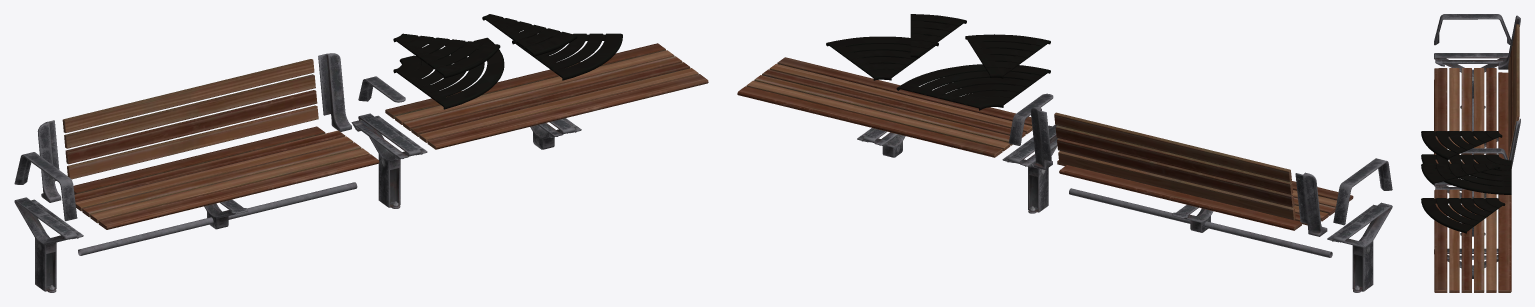
Rendered from modular_street_seating_512.glb.
The picture shows the model from 3 angles, left to right: view 1: azimuth 30°, elevation 25°; view 2: azimuth 150°, elevation 25°; view 3: azimuth 270°, elevation 25°; orthographic projection. The views are drawn at different scales.
Parts seen in each view (by area): view 1: seat_back, seat, seat_bench, connector_90, legs_double, connector_45, legs_single, connector_60, crossbar, connector_30, back_support_l, arm_rest_01 (+4 smaller); view 2: seat_bench, seat_back, connector_90, seat, connector_60, legs_single, connector_45, crossbar, legs_double, connector_30, arm_rest_01, back_support_r (+4 smaller); view 3: seat_bench, seat, connector_90, connector_60, connector_45, seat_back, connector_30, legs_single, arm_rest_01, arm_rest_02, back_support_r, legs_double (+3 smaller).
Part boxes in pixels (<box>): seat_back: <box>62,59,318,179</box>; seat: <box>73,126,379,229</box>; seat_bench: <box>385,43,708,149</box>; connector_90: <box>393,37,504,109</box>; legs_double: <box>351,113,427,208</box>; connector_45: <box>393,33,500,78</box>; legs_single: <box>14,197,83,292</box>; connector_60: <box>512,33,622,80</box>; crossbar: <box>78,182,357,255</box>; connector_30: <box>482,14,577,56</box>; back_support_l: <box>318,53,351,131</box>; arm_rest_01: <box>14,152,77,221</box>; seat_bench: <box>737,57,1032,157</box>; seat_back: <box>1054,112,1295,220</box>; connector_90: <box>896,64,1050,110</box>; seat: <box>1057,160,1353,230</box>; connector_60: <box>826,36,938,80</box>; legs_single: <box>1327,202,1392,292</box>; connector_45: <box>965,34,1050,78</box>; crossbar: <box>1069,188,1332,257</box>; legs_double: <box>1002,125,1058,213</box>; connector_30: <box>910,14,966,57</box>; arm_rest_01: <box>1333,158,1392,225</box>; back_support_r: <box>1295,172,1327,236</box>; seat_bench: <box>1434,189,1511,292</box>; seat: <box>1434,68,1508,163</box>; connector_90: <box>1421,154,1511,194</box>; connector_60: <box>1421,198,1505,233</box>; connector_45: <box>1421,131,1502,160</box>; seat_back: <box>1508,24,1519,157</box>; connector_30: <box>1421,163,1500,185</box>; legs_single: <box>1434,53,1508,108</box>; arm_rest_01: <box>1434,14,1511,45</box>; arm_rest_02: <box>1461,148,1508,159</box>; back_support_r: <box>1498,15,1520,69</box>; legs_double: <box>1434,181,1486,236</box>.
Size of the model in its own units: 4.34 by 0.95 by 0.7704.
4 materials, 4 textured.
